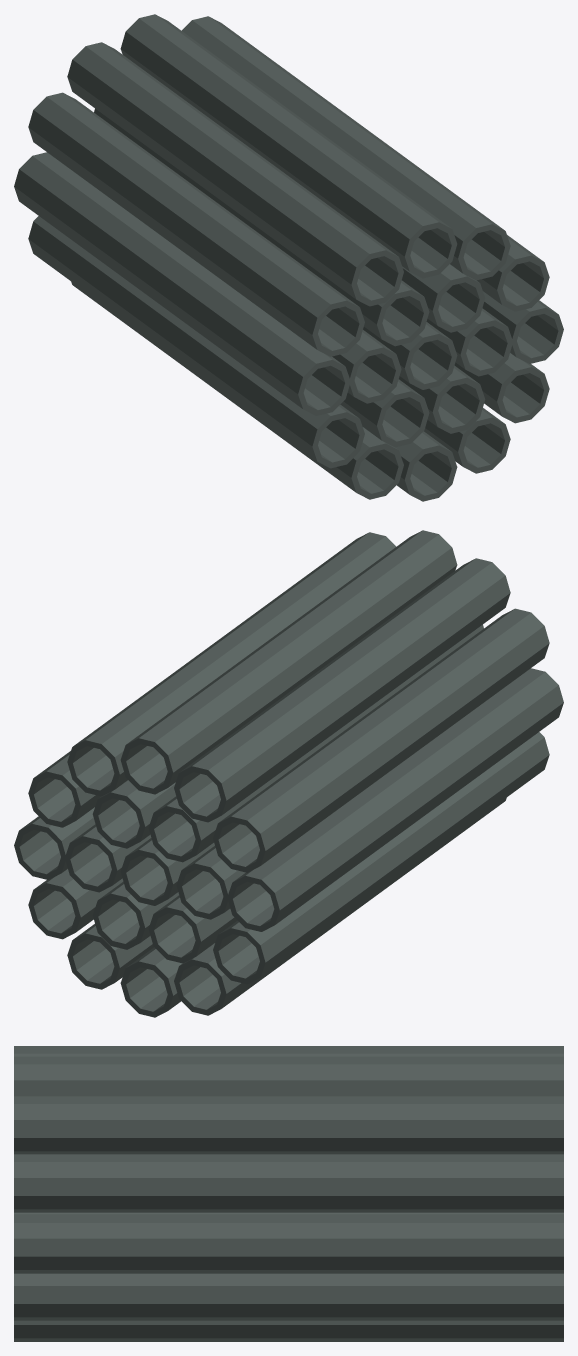
The model's file is Rocket70Nineteen__TubeLiners.obj.
3 views of the same model, one above another, from view 1: azimuth 30°, elevation 25°; view 2: azimuth 150°, elevation 25°; view 3: azimuth 270°, elevation 25° (orthographic). The views are drawn at different scales.
Parts seen in each view (by area): view 1: Tube_13, Tube_12, Tube_14, Tube_11, Tube_15, Tube_10, Tube_04, Tube_16, Tube_19, Tube_03, Tube_06, Tube_08 (+7 smaller); view 2: Tube_13, Tube_12, Tube_14, Tube_11, Tube_15, Tube_10, Tube_04, Tube_16, Tube_19, Tube_03, Tube_06, Tube_08 (+7 smaller); view 3: Tube_08, Tube_09, Tube_10, Tube_19, Tube_11, Tube_18, Tube_12, Tube_02.
Part boxes in pixels (<box>): Tube_13: <box>28,92,364,356</box>; Tube_12: <box>67,42,403,306</box>; Tube_14: <box>14,152,349,415</box>; Tube_11: <box>120,14,457,278</box>; Tube_15: <box>28,216,364,468</box>; Tube_10: <box>181,16,510,280</box>; Tube_04: <box>94,108,429,346</box>; Tube_16: <box>71,281,403,499</box>; Tube_19: <box>454,353,549,423</box>; Tube_03: <box>402,264,485,332</box>; Tube_06: <box>340,379,429,447</box>; Tube_08: <box>482,291,563,363</box>; Tube_13: <box>213,608,549,872</box>; Tube_12: <box>174,558,510,822</box>; Tube_14: <box>227,668,563,931</box>; Tube_11: <box>120,530,457,794</box>; Tube_15: <box>213,732,549,984</box>; Tube_10: <box>67,532,396,796</box>; Tube_04: <box>148,624,483,862</box>; Tube_16: <box>174,797,506,1015</box>; Tube_19: <box>28,869,123,939</box>; Tube_03: <box>92,780,175,848</box>; Tube_06: <box>148,895,237,963</box>; Tube_08: <box>14,807,95,879</box>; Tube_08: <box>14,1215,563,1273</box>; Tube_09: <box>14,1154,563,1212</box>; Tube_10: <box>14,1096,563,1154</box>; Tube_19: <box>14,1273,563,1320</box>; Tube_11: <box>14,1056,563,1096</box>; Tube_18: <box>14,1320,563,1341</box>; Tube_12: <box>14,1046,563,1056</box>; Tube_02: <box>14,1212,563,1214</box>.
Size of the model in its own units: 0.7575 by 0.7502 by 1.4.
